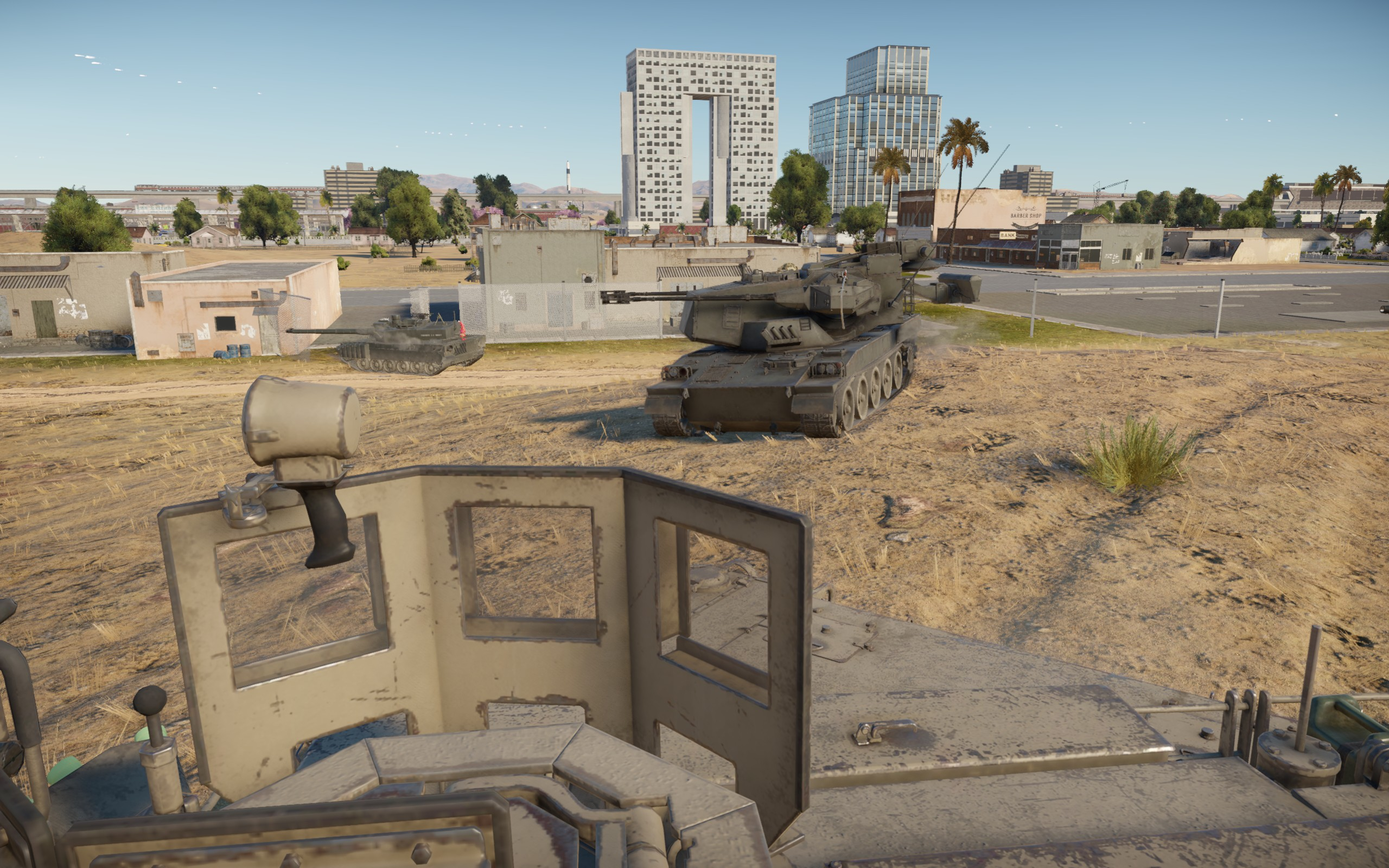spaa_gepard: (599, 234, 942, 440)
